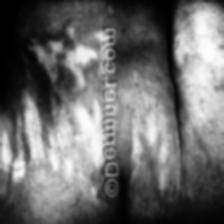Unclassified: (5, 34, 99, 202), (178, 25, 224, 104), (124, 103, 168, 183)
